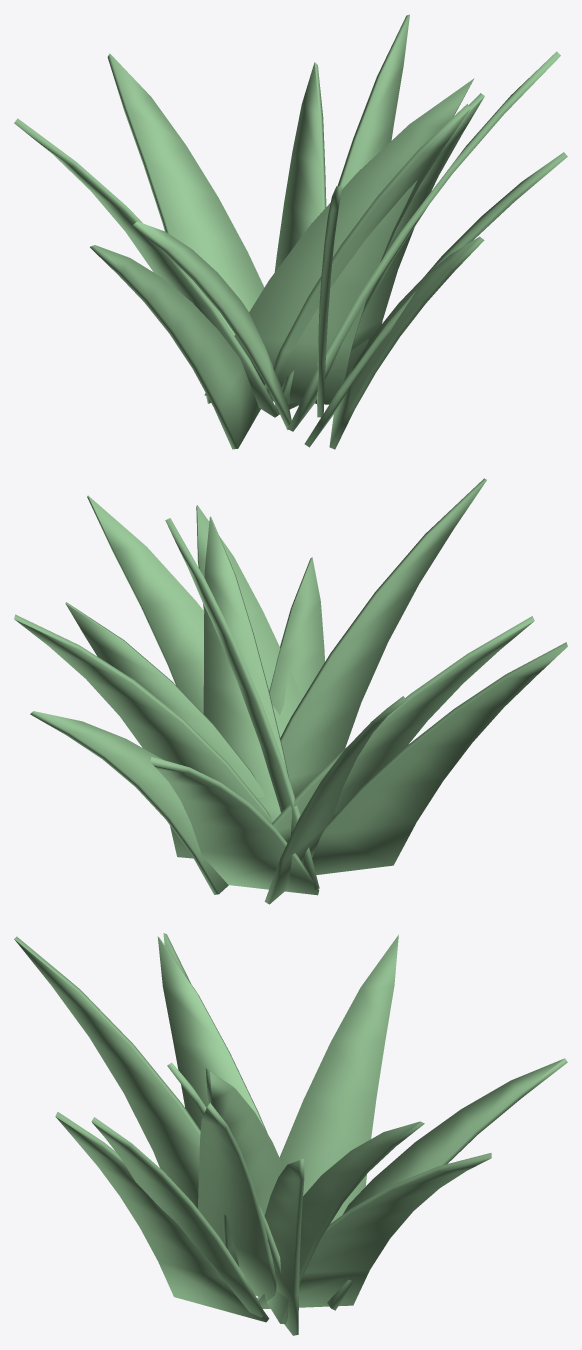
The model's file is aloe_1.glb.
3 renders of one model, top to bottom at view 1: azimuth 30°, elevation 25°; view 2: azimuth 150°, elevation 25°; view 3: azimuth 270°, elevation 25°, orthographic. The views are drawn at different scales.
Visible parts, largest first — view 1: aloe; view 2: aloe; view 3: aloe.
Boxes of the visible parts, x1,y1,x2,y2 form: aloe: [14, 14, 567, 449]; aloe: [14, 478, 567, 904]; aloe: [14, 933, 567, 1335].
Size of the model in its own units: 0.5498 by 0.3677 by 0.5718.
